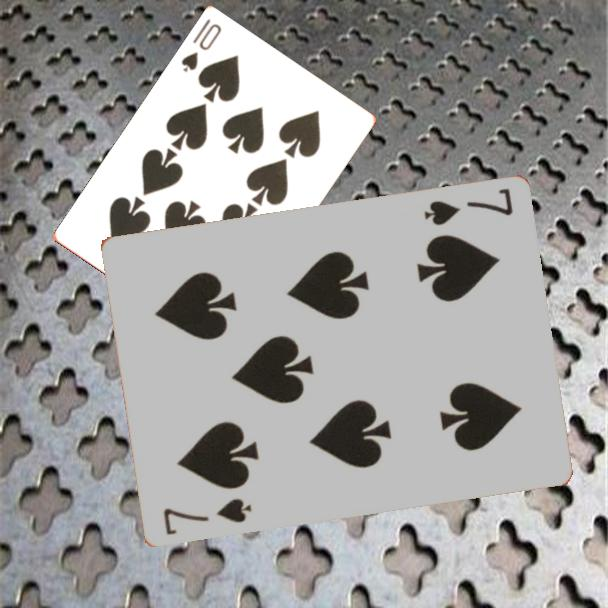s07: (159, 495, 254, 539), (420, 185, 515, 229)
s10: (178, 15, 225, 76)
